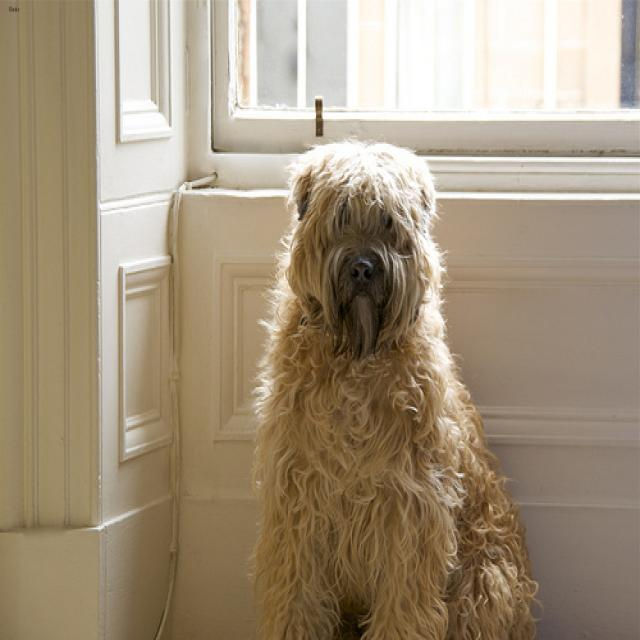dog-wheaten_terrier: (243, 126, 541, 637)
